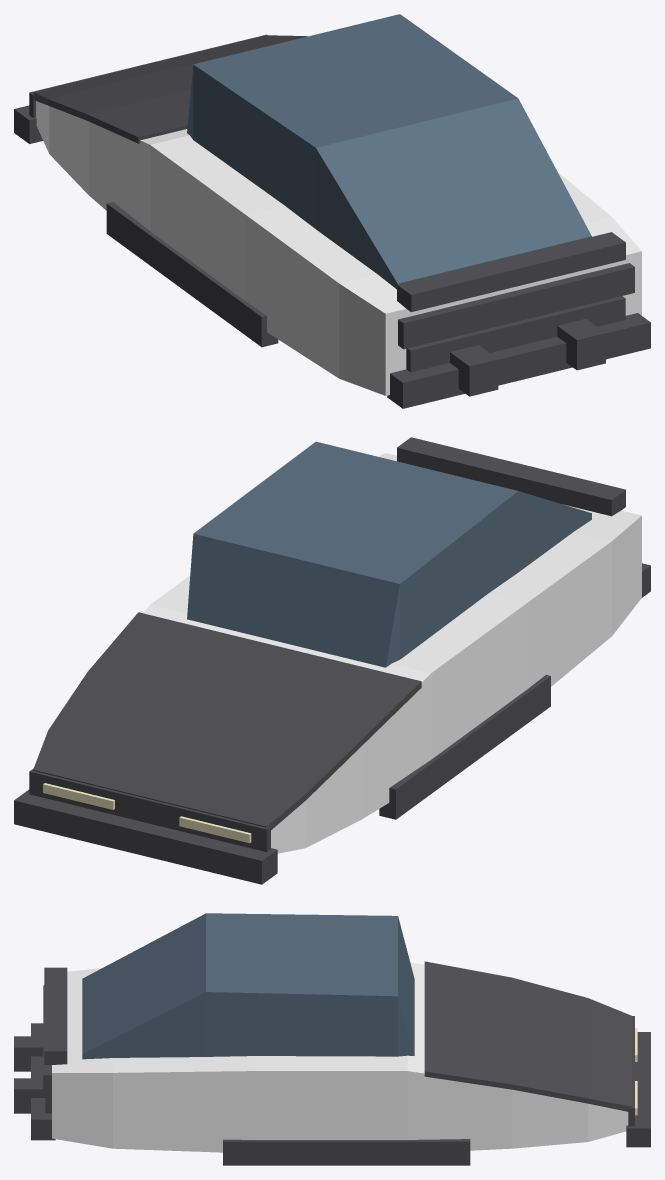
File: G_Panda_Body.fbx
3 views of the same model, one above another, from view 1: azimuth 30°, elevation 25°; view 2: azimuth 150°, elevation 25°; view 3: azimuth 270°, elevation 25° (orthographic). The views are drawn at different scales.
Visible parts, largest first — view 1: G_Panda_Canopy, G_Panda_Body, G_Panda_Hood, G_Panda_TailLights, G_Panda_Spoiler, G_Panda_Bumper_R, G_Panda_Skirt_L, G_Panda_TailPanel, G_Panda_Exhaust_L, G_Panda_Exhaust_R, G_Panda_Bumper_F; view 2: G_Panda_Canopy, G_Panda_Hood, G_Panda_Body, G_Panda_Bumper_F, G_Panda_Spoiler, G_Panda_Skirt_L, G_Panda_Fascia, G_Panda_Light_L, G_Panda_Light_R; view 3: G_Panda_Body, G_Panda_Canopy, G_Panda_Hood, G_Panda_Skirt_R, G_Panda_Spoiler, G_Panda_Bumper_F, G_Panda_Bumper_R, G_Panda_Exhaust_L, G_Panda_Exhaust_R, G_Panda_TailLights, G_Panda_Fascia.
Boxes of the visible parts, box(x1,y1,x2,y2) form: G_Panda_Canopy: box(187, 14, 591, 289); G_Panda_Body: box(36, 101, 641, 395); G_Panda_Hood: box(33, 35, 307, 143); G_Panda_TailLights: box(398, 263, 634, 349); G_Panda_Spoiler: box(397, 232, 625, 312); G_Panda_Bumper_R: box(387, 313, 650, 408); G_Panda_Skirt_L: box(106, 202, 278, 347); G_Panda_TailPanel: box(406, 296, 625, 372); G_Panda_Exhaust_L: box(450, 345, 498, 396); G_Panda_Exhaust_R: box(557, 319, 605, 370); G_Panda_Bumper_F: box(14, 105, 43, 143); G_Panda_Canopy: box(187, 441, 591, 667); G_Panda_Hood: box(33, 612, 421, 829); G_Panda_Body: box(143, 453, 641, 853); G_Panda_Bumper_F: box(14, 789, 277, 884); G_Panda_Spoiler: box(397, 437, 625, 516); G_Panda_Skirt_L: box(379, 675, 550, 819); G_Panda_Fascia: box(29, 768, 270, 852); G_Panda_Light_L: box(179, 816, 251, 843); G_Panda_Light_R: box(43, 783, 114, 809); G_Panda_Body: box(52, 962, 628, 1152); G_Panda_Canopy: box(82, 913, 414, 1059); G_Panda_Hood: box(424, 961, 631, 1111); G_Panda_Skirt_R: box(223, 1139, 470, 1165); G_Panda_Spoiler: box(44, 967, 67, 1064); G_Panda_Bumper_F: box(626, 1032, 650, 1147); G_Panda_Bumper_R: box(31, 1023, 55, 1140); G_Panda_Exhaust_L: box(14, 1036, 43, 1071); G_Panda_Exhaust_R: box(14, 1078, 45, 1113); G_Panda_TailLights: box(43, 985, 51, 1095); G_Panda_Fascia: box(628, 1016, 634, 1126).
Size of the model in its own units: 140 by 91 by 335.
